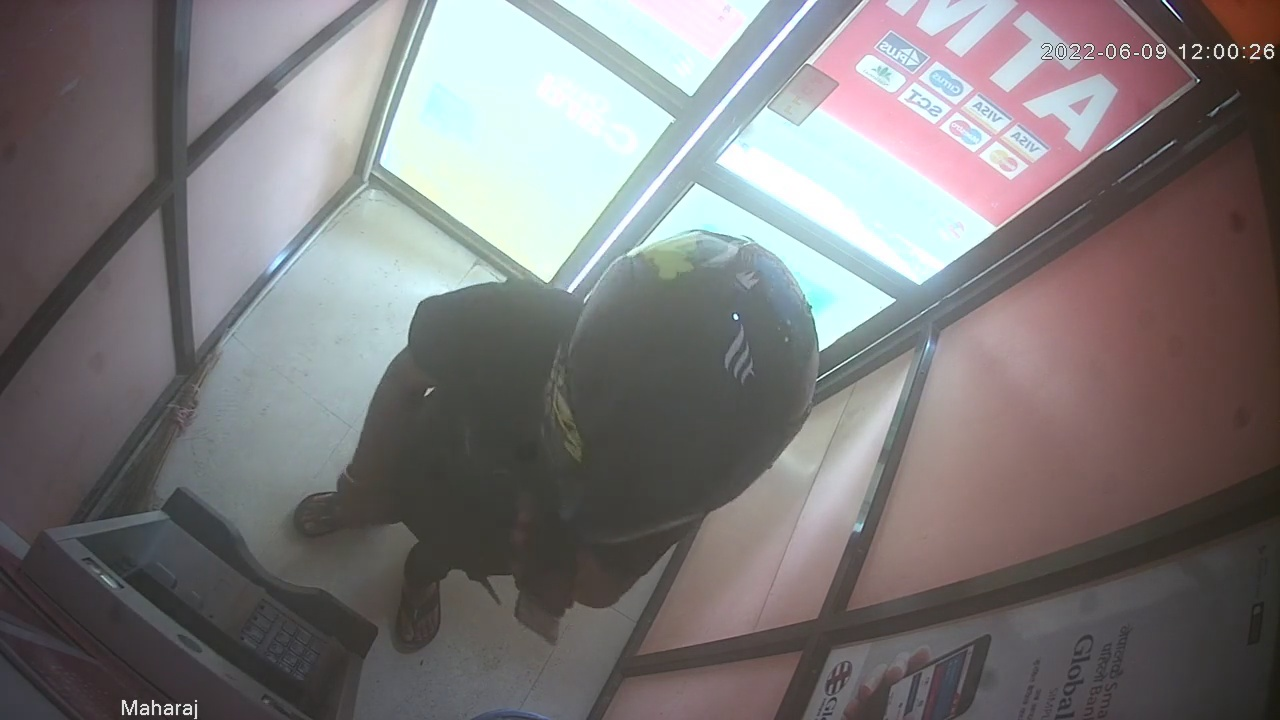helmet: (542, 228, 821, 543)
person: (290, 229, 821, 657)
